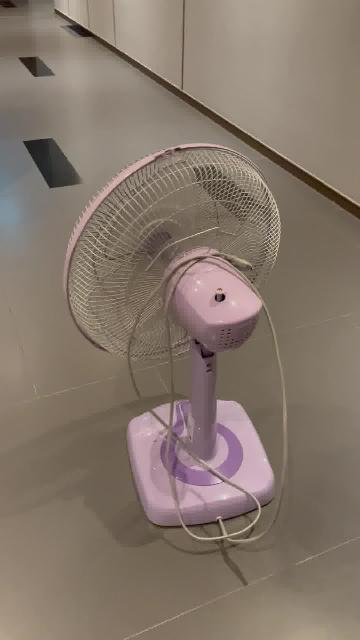Fan: (63, 144, 282, 530)
